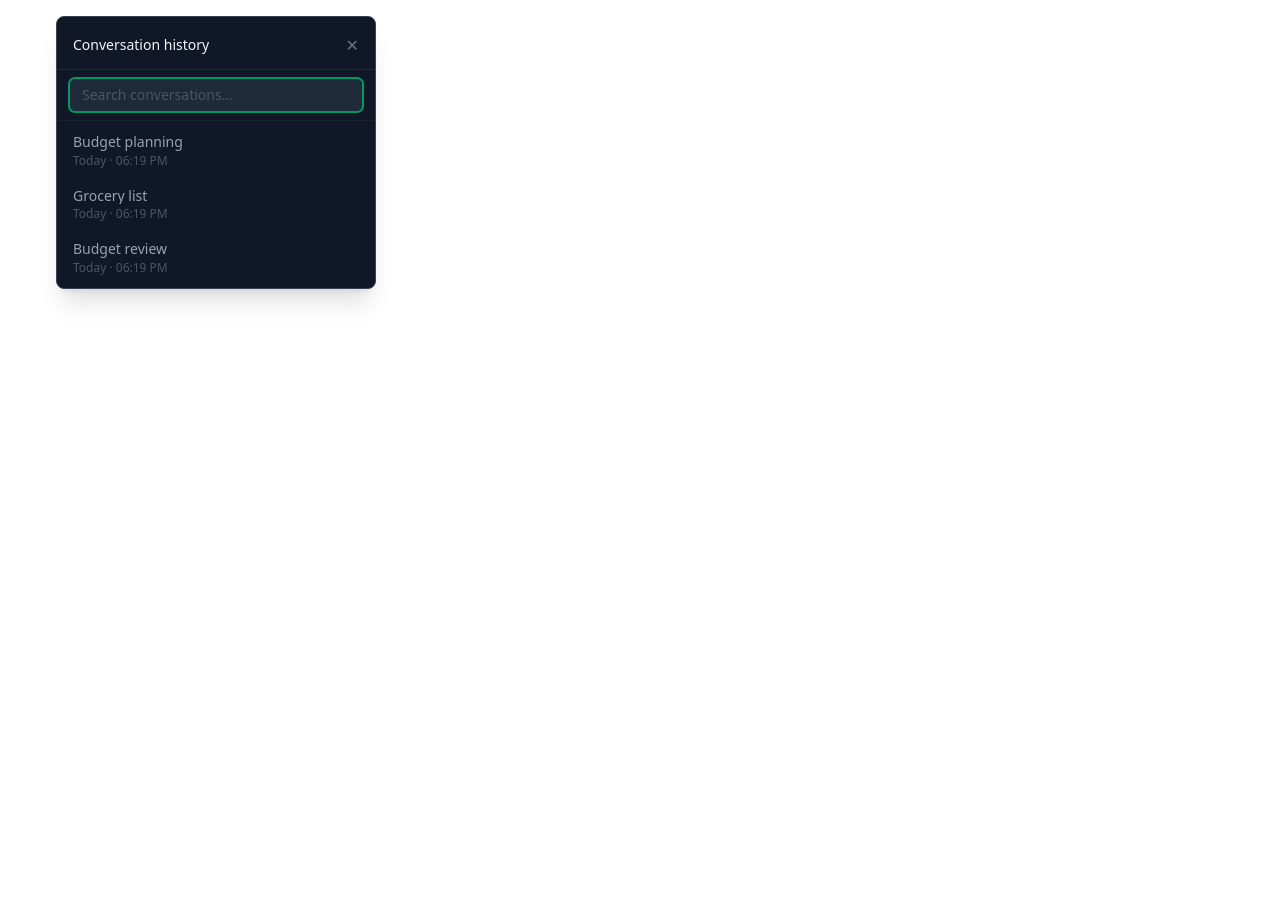
Test: HistoryFlyout — search filter › filters conversations by title as user types
expect the text "Budget planning" is shown: met, box left=73, top=133, right=183, bottom=150
Type "budget" into the search field.
click(216, 95); type("budget")  # box left=69, top=78, right=363, bottom=112
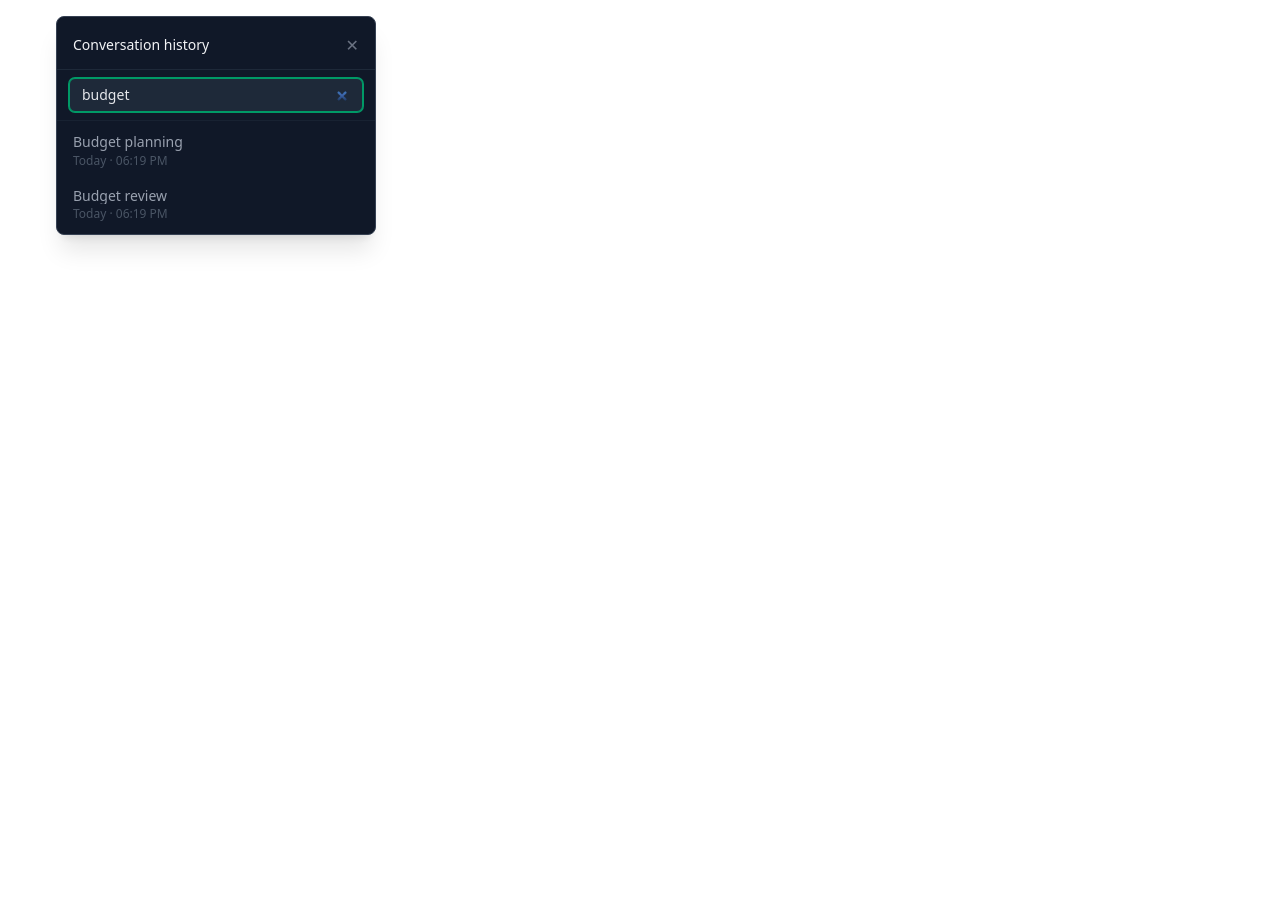
expect the text "Budget planning" is shown: met, box left=73, top=133, right=183, bottom=150
expect the option "Grocery list" is gone: met
